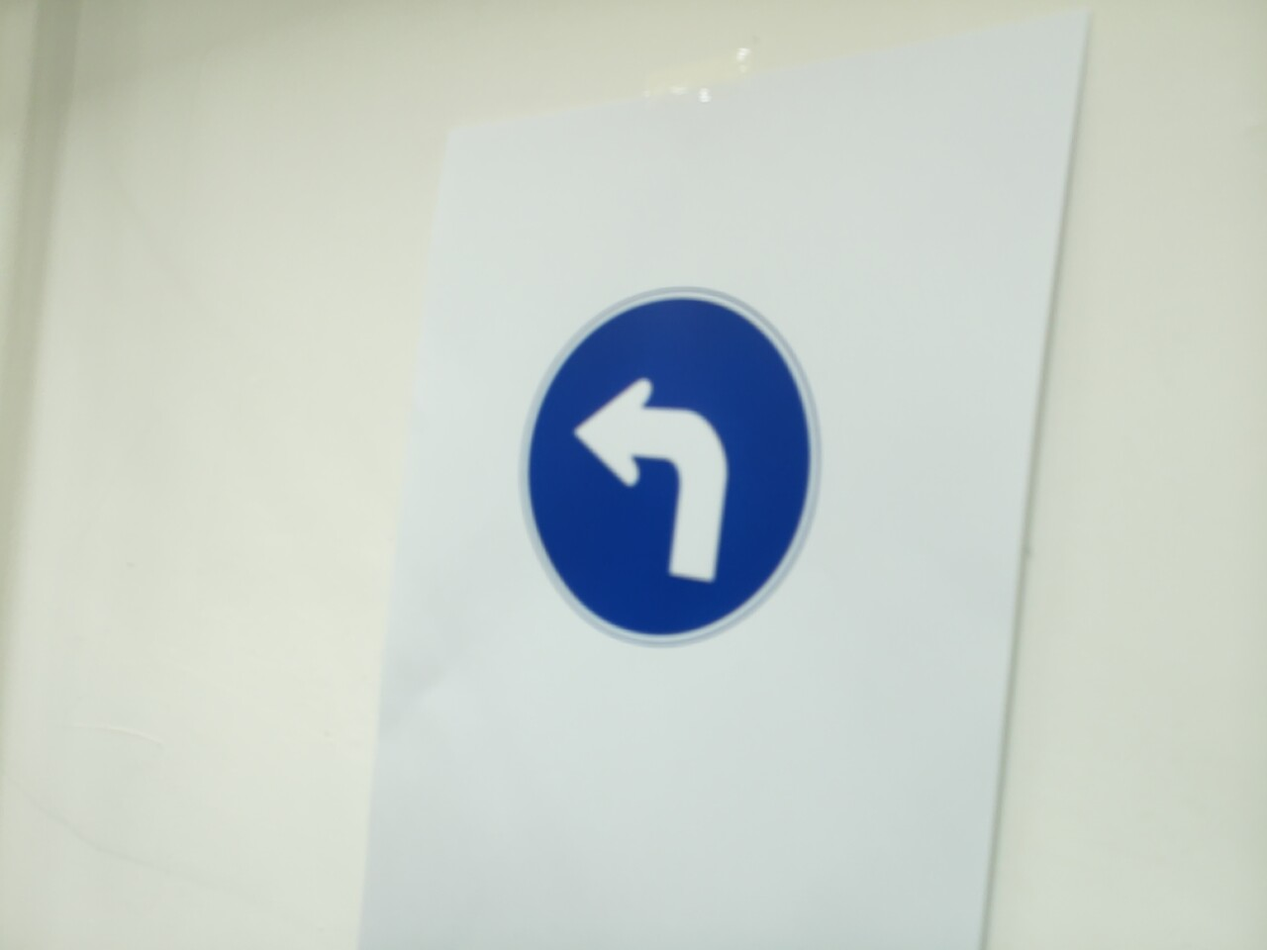left_turn: (519, 288, 820, 645)
